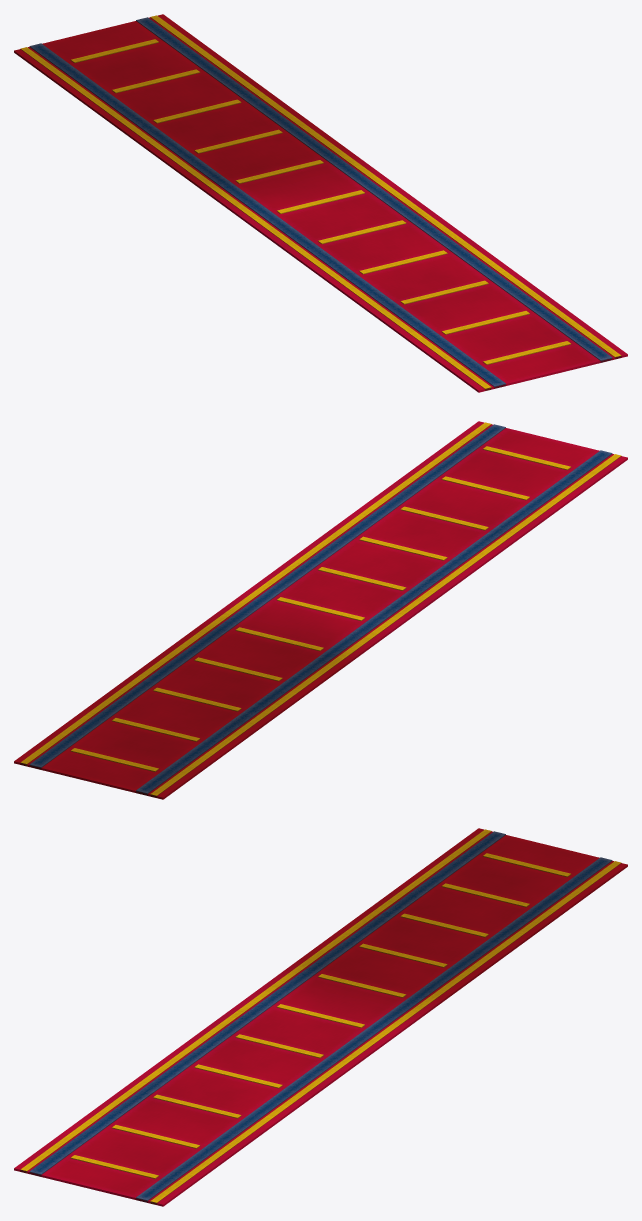
Rendered from ShipCarpet.fbx.
3 renders of one model, top to bottom at view 1: azimuth 30°, elevation 25°; view 2: azimuth 150°, elevation 25°; view 3: azimuth 330°, elevation 25°, orthographic.
Parts seen in each view (by area): view 1: ShipCarpet; view 2: ShipCarpet; view 3: ShipCarpet.
Part boxes in pixels (bbox=[...]): ShipCarpet: bbox=[14, 14, 627, 392]; ShipCarpet: bbox=[14, 421, 627, 799]; ShipCarpet: bbox=[14, 828, 627, 1206].
Size of the model in its own units: 2.3 by 0.042 by 12.4.
